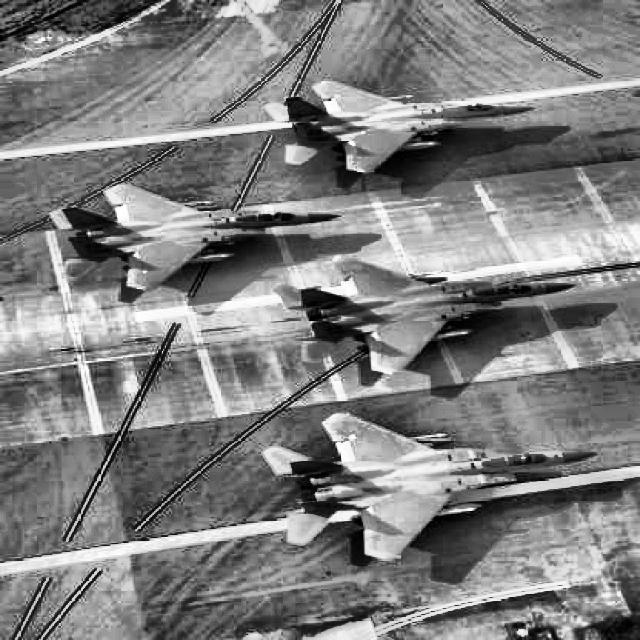F15: (259, 412, 598, 560), (272, 254, 577, 374), (46, 183, 342, 292), (263, 79, 535, 175)
